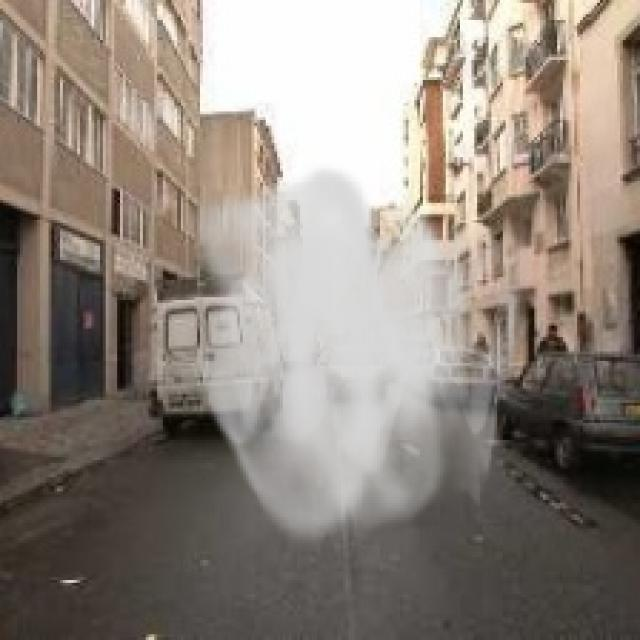Smoke: (182, 162, 538, 554)
